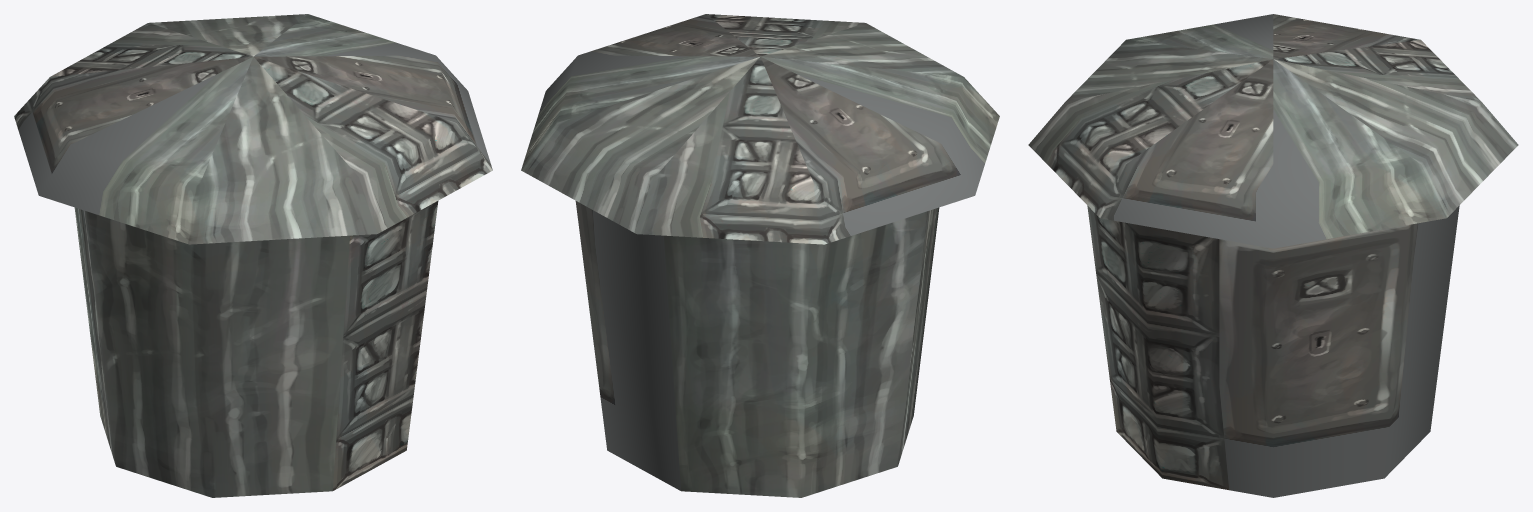
File: TrashCan.fbx
3 views of the same model, side by side, from view 1: azimuth 30°, elevation 25°; view 2: azimuth 150°, elevation 25°; view 3: azimuth 270°, elevation 25° (orthographic).
Visible parts, largest first — view 1: Cylinder; view 2: Cylinder; view 3: Cylinder.
Boxes of the visible parts, <box> form: Cylinder: <box>14,14,492,497</box>; Cylinder: <box>521,14,999,497</box>; Cylinder: <box>1028,14,1518,497</box>.
Size of the model in its own units: 119 by 99.75 by 119.
